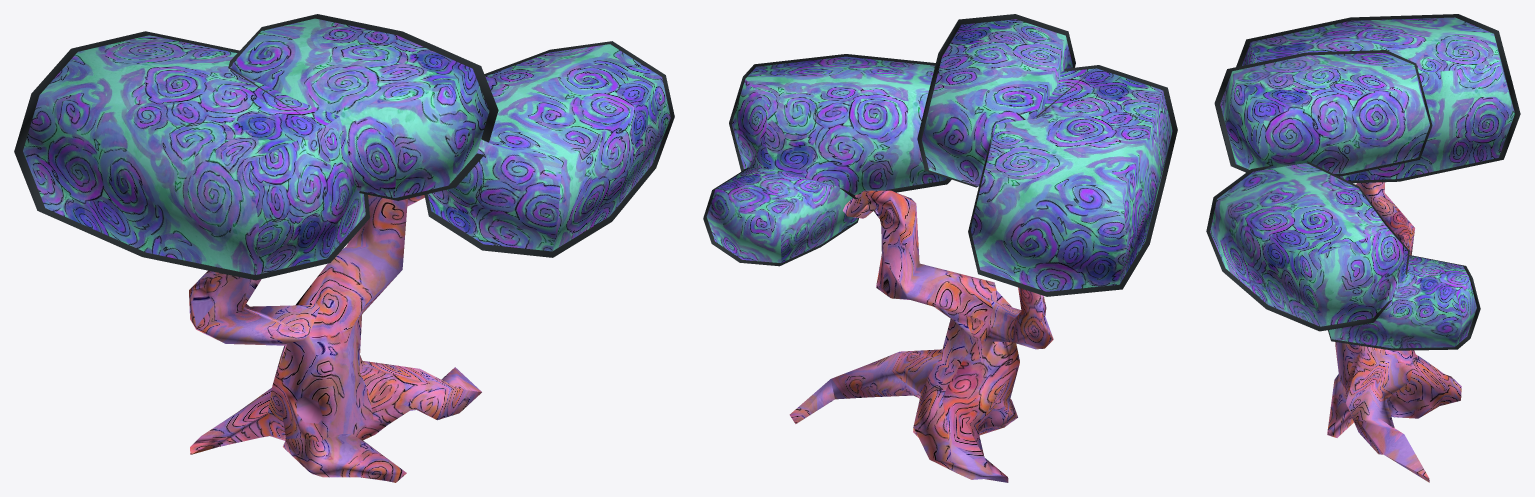
The model's file is tree-01-art.glb.
3 views of the same model, side by side, from view 1: azimuth 30°, elevation 25°; view 2: azimuth 150°, elevation 25°; view 3: azimuth 270°, elevation 25° (orthographic). The views are drawn at different scales.
Parts seen in each view (by area): view 1: Tree_01_Art; view 2: Tree_01_Art; view 3: Tree_01_Art.
Part boxes in pixels (x1,y1,x2,y2): Tree_01_Art: (14,14,674,482); Tree_01_Art: (703,14,1177,482); Tree_01_Art: (1206,14,1520,482).
Bounding box in the file's own units: 15.93 × 12.1 × 9.75.
3 materials, 2 textured.
